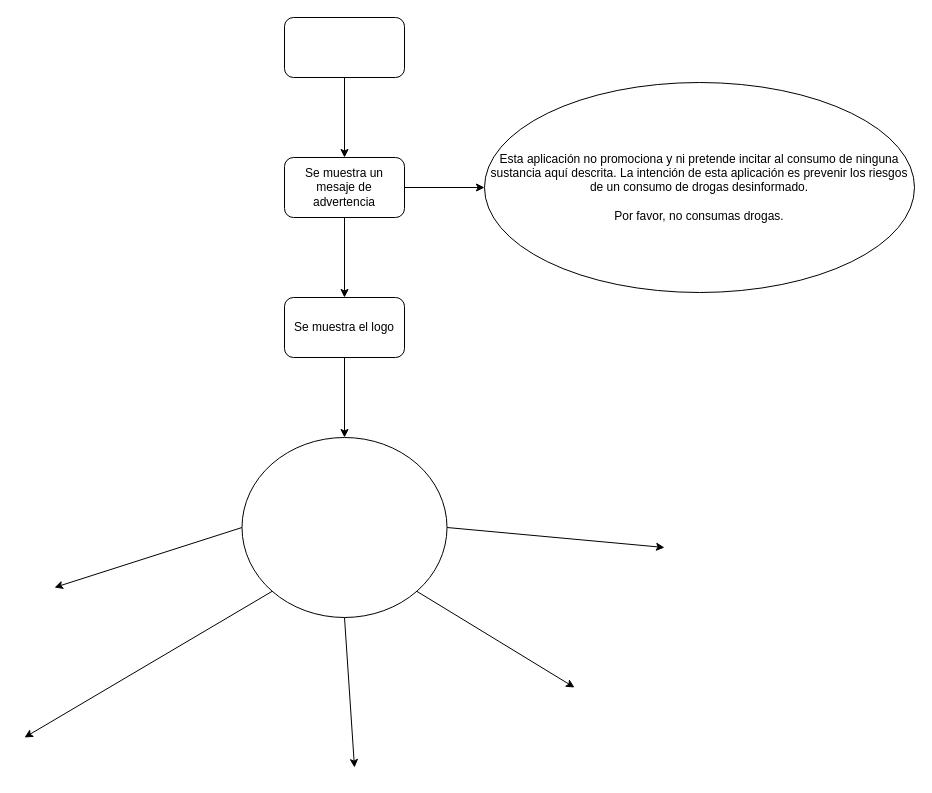
This 932x793 diagram has some shape labels left out. The box of each missing label's shape, as (x1, y1, x2, y2) in pixels:
Inicio: (284, 16, 404, 78)
Menú principal: (241, 436, 447, 618)
